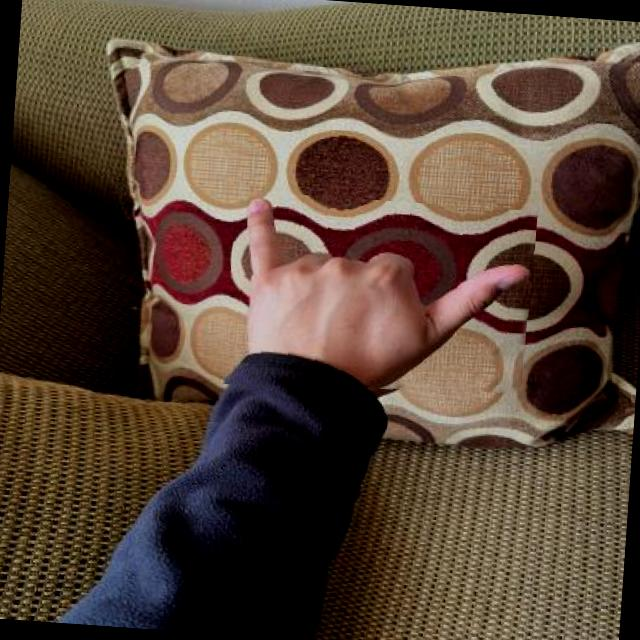Y: (222, 190, 538, 404)
